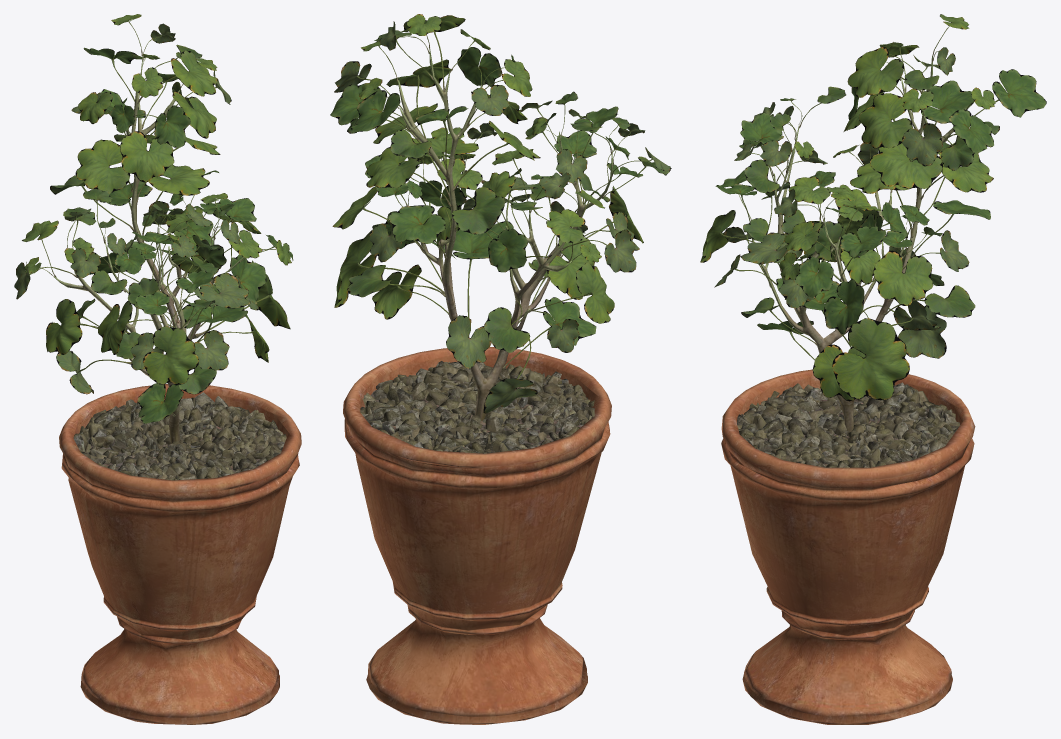
File: potted_plant_01_lod1.glb
3 renders of one model, left to right at view 1: azimuth 30°, elevation 25°; view 2: azimuth 150°, elevation 25°; view 3: azimuth 270°, elevation 25°, orthographic. The views are drawn at different scales.
Visible parts, largest first — view 1: potted_plant_01_pot, potted_plant_01_leaves, potted_plant_01_pebbles, potted_plant_01_stem; view 2: potted_plant_01_pot, potted_plant_01_leaves, potted_plant_01_pebbles, potted_plant_01_stem; view 3: potted_plant_01_pot, potted_plant_01_leaves, potted_plant_01_pebbles, potted_plant_01_stem.
Part boxes in pixels (<box>): potted_plant_01_pot: <box>59,384,301,724</box>; potted_plant_01_leaves: <box>14,14,293,423</box>; potted_plant_01_pebbles: <box>73,392,286,480</box>; potted_plant_01_stem: <box>54,55,243,443</box>; potted_plant_01_pot: <box>343,347,611,724</box>; potted_plant_01_leaves: <box>330,14,671,413</box>; potted_plant_01_pebbles: <box>360,361,594,474</box>; potted_plant_01_stem: <box>398,48,612,420</box>; potted_plant_01_pot: <box>721,369,975,724</box>; potted_plant_01_leaves: <box>700,14,1046,401</box>; potted_plant_01_pebbles: <box>737,382,960,475</box>; potted_plant_01_stem: <box>752,56,966,432</box>.
Bounding box in the file's own units: 0.5874 × 1.34 × 0.6336.
Materials: 2 (2 with a texture image).
